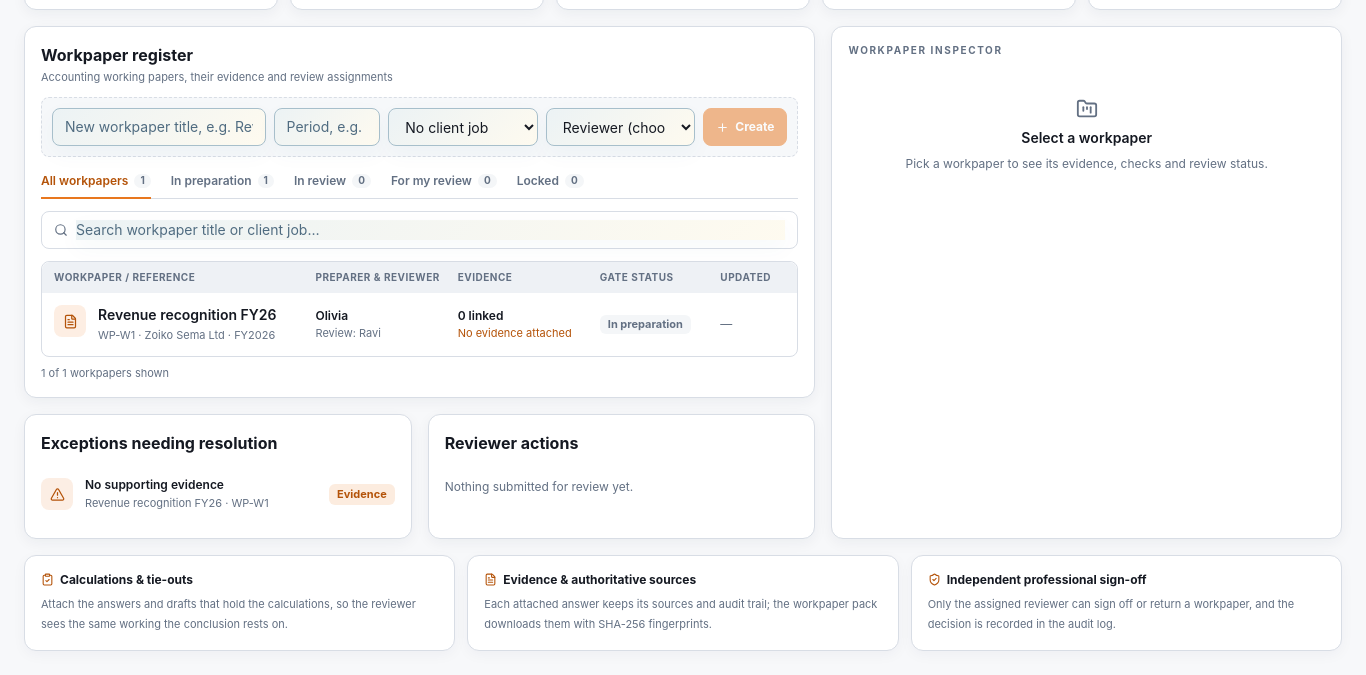
Test: Workpapers › lets the reviewer sign off, and requires a note to return
(page scrolled)
Click the text "Revenue recognition FY26" at (187, 315), box [98,305,276,325]
(page scrolled)
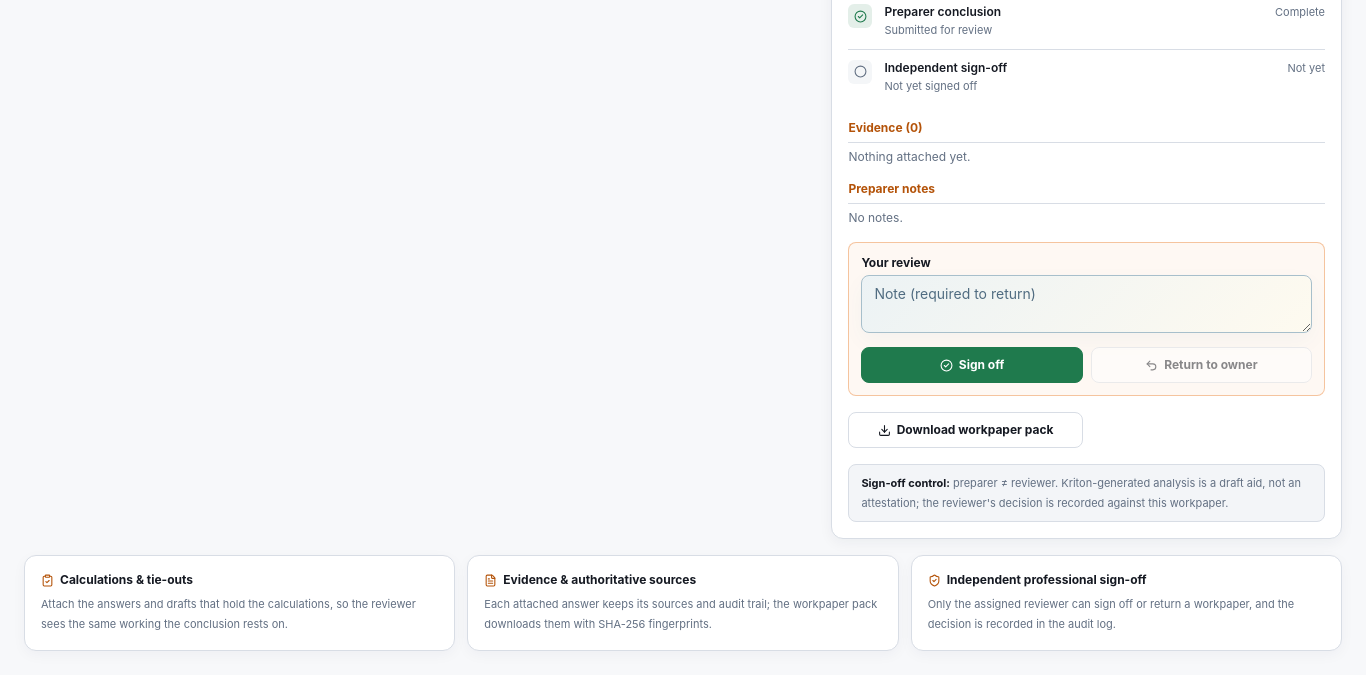
expect the button "Return to owner" is disabled: met, box [1091,347,1312,383]
Click the button "Sign off" at (972, 365), box [861,347,1083,383]
(page scrolled)
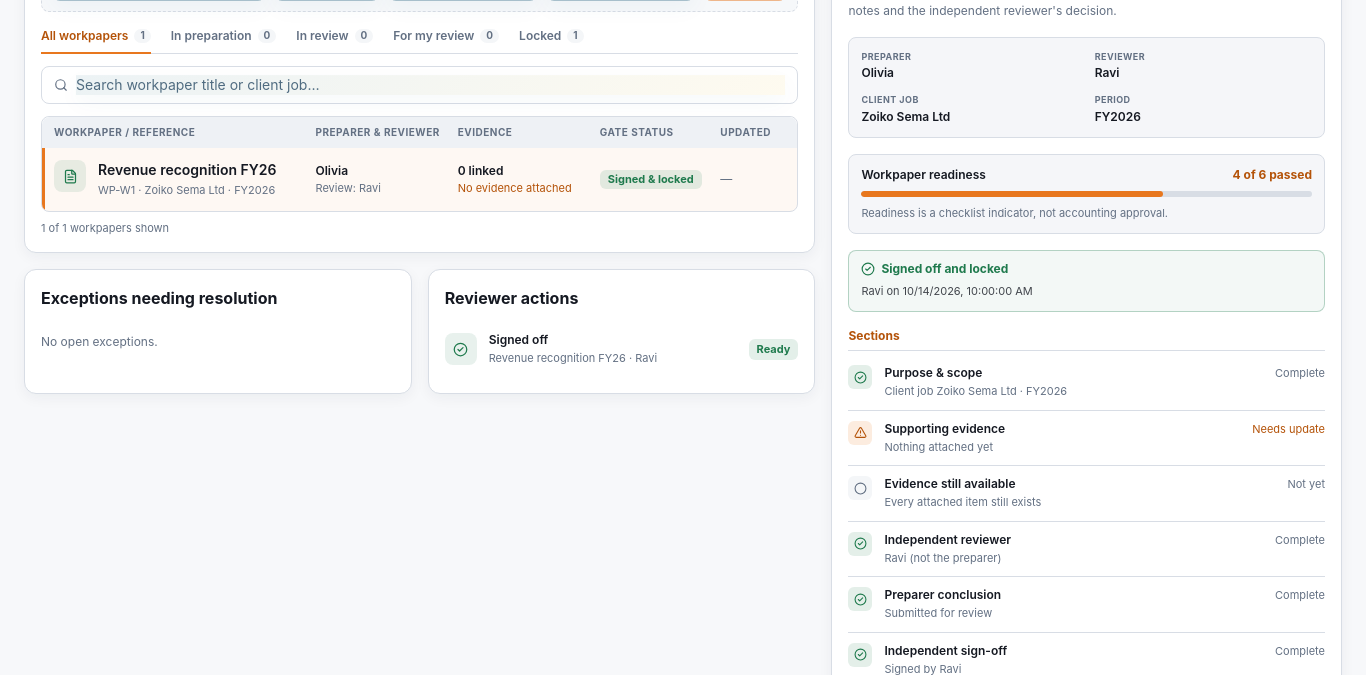
expect the text "Ravi on 10/14/2026, 10:00:00 AM" is shown: met, box [861,284,1033,298]
